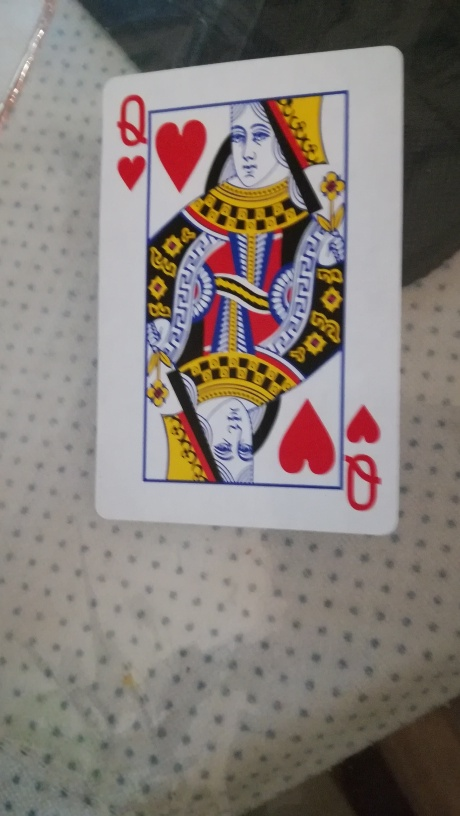hx q: (98, 41, 403, 542)
